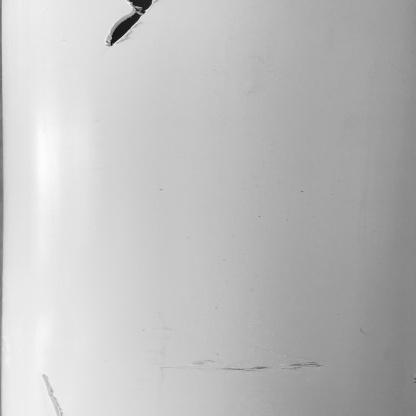kongdong: (105, 1, 158, 48)
sunshang: (40, 365, 67, 415)
